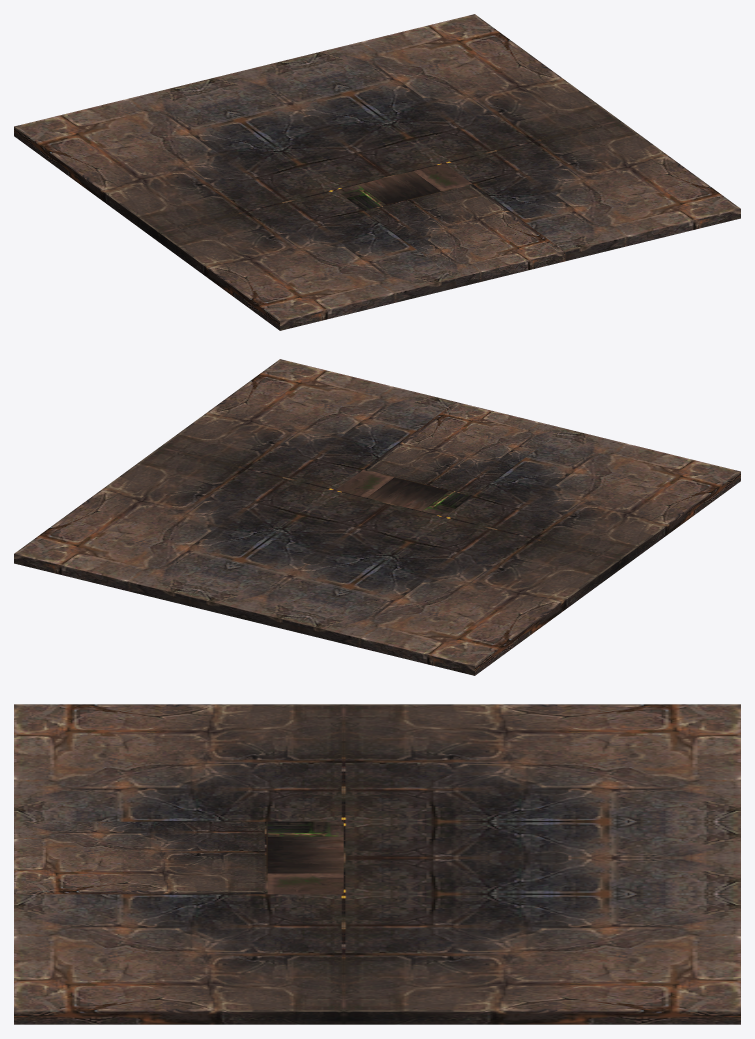
Rendered from Pantheon_Level03_L.FBX.
3 views of the same model, one above another, from view 1: azimuth 30°, elevation 25°; view 2: azimuth 150°, elevation 25°; view 3: azimuth 270°, elevation 25° (orthographic). The views are drawn at different scales.
Parts seen in each view (by area): view 1: Pantheon_Level03_L; view 2: Pantheon_Level03_L; view 3: Pantheon_Level03_L.
Part boxes in pixels (x1=…): Pantheon_Level03_L: x1=14, y1=14, x2=740, y2=330; Pantheon_Level03_L: x1=14, y1=359, x2=740, y2=675; Pantheon_Level03_L: x1=14, y1=704, x2=740, y2=1024.
Bounding box in the file's own units: 500 × 10 × 500.
